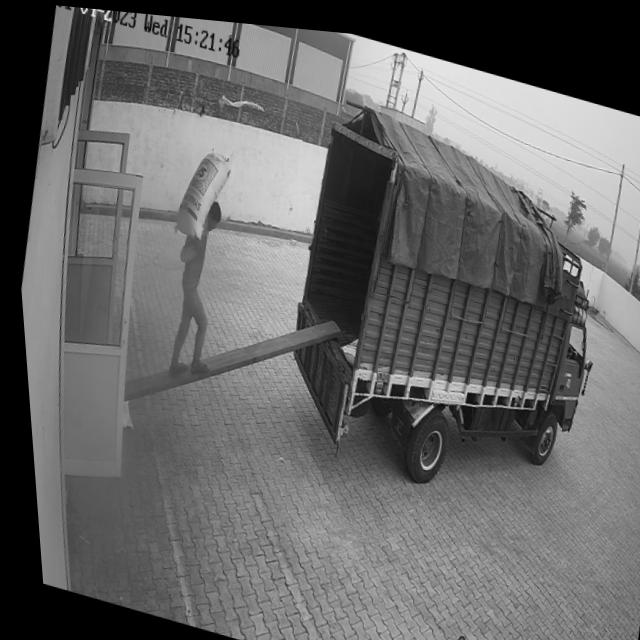sack: (165, 138, 234, 243)
